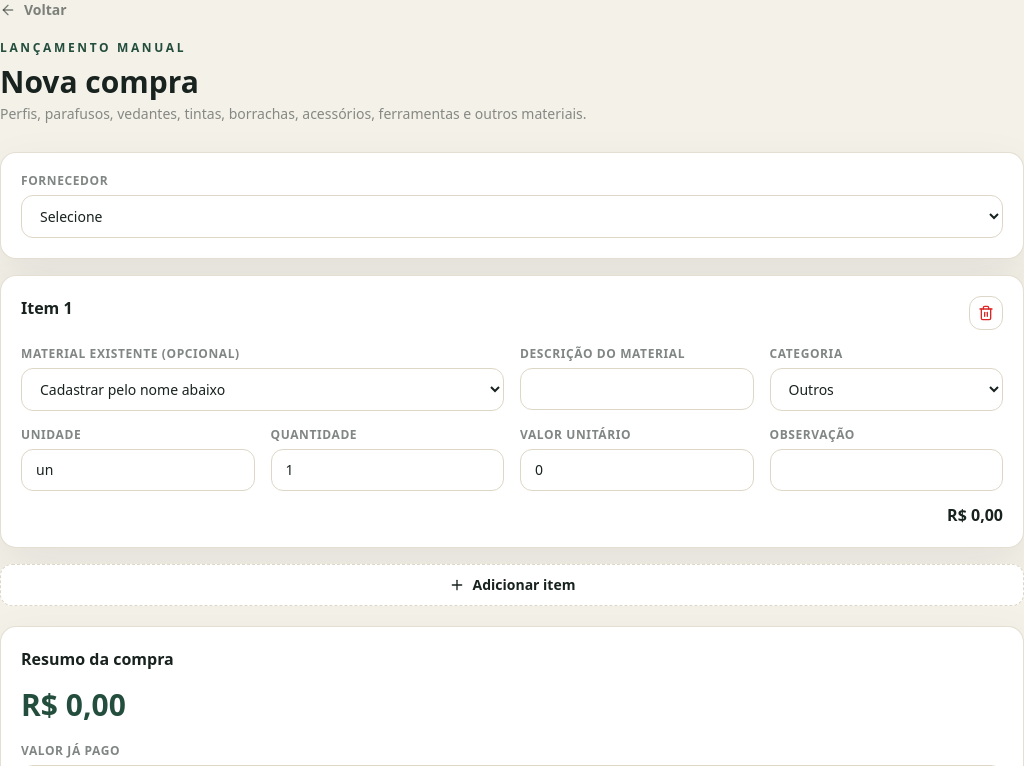
purchase cannot submit an empty row
Select "Cliente teste" in the dropdown named "Fornecedor" at point(512, 216), box [21,195,1003,238]
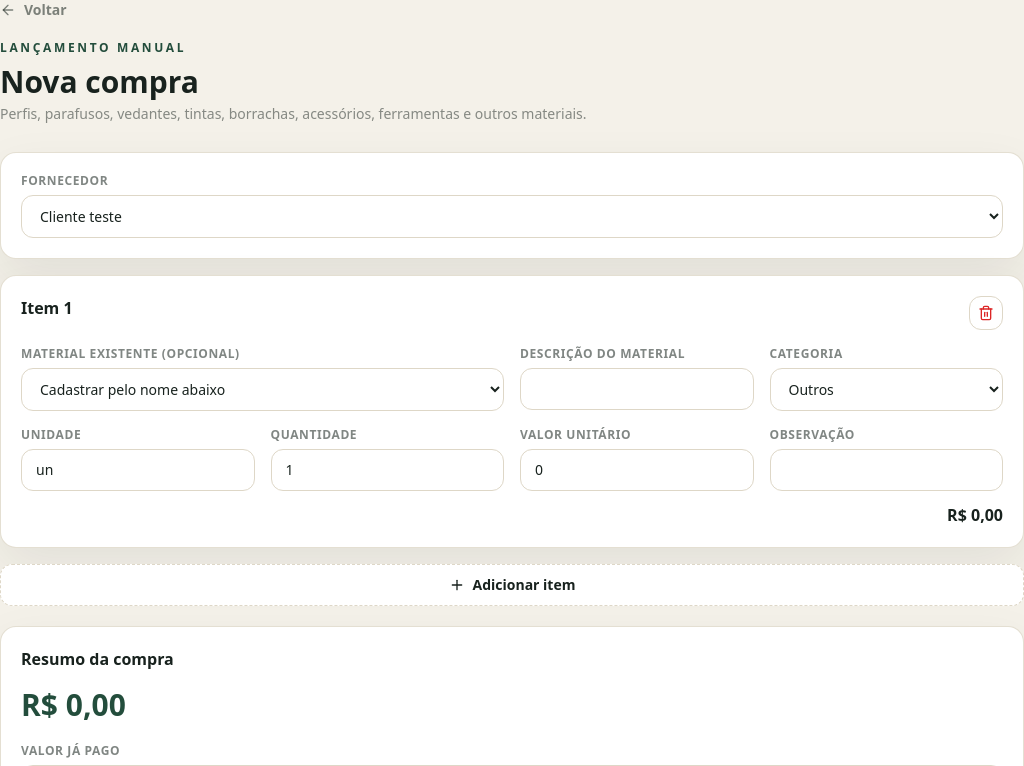
Select "Chapa" in the dropdown named "Material existente" at point(262, 390), box [21,368,504,411]
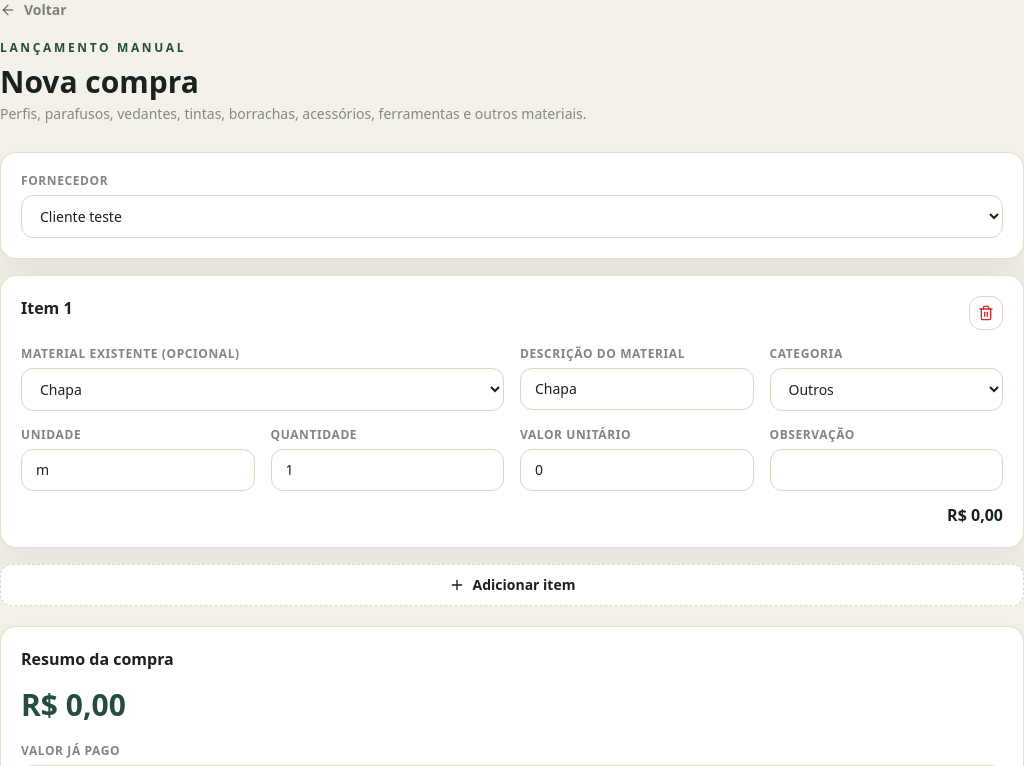
Replace the text in the number field named "Valor unitário" with "10" at point(637, 470), box [520,449,754,491]
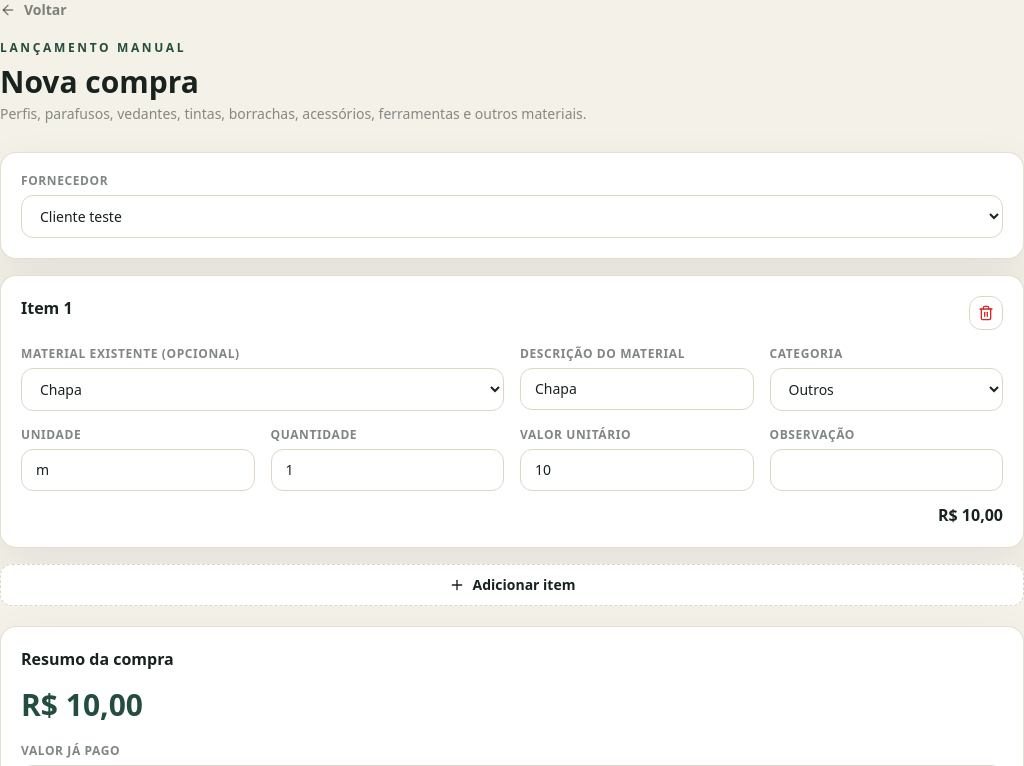
Click the button "Adicionar item".
click(512, 585)  # box [0,564,1023,606]
(page scrolled)
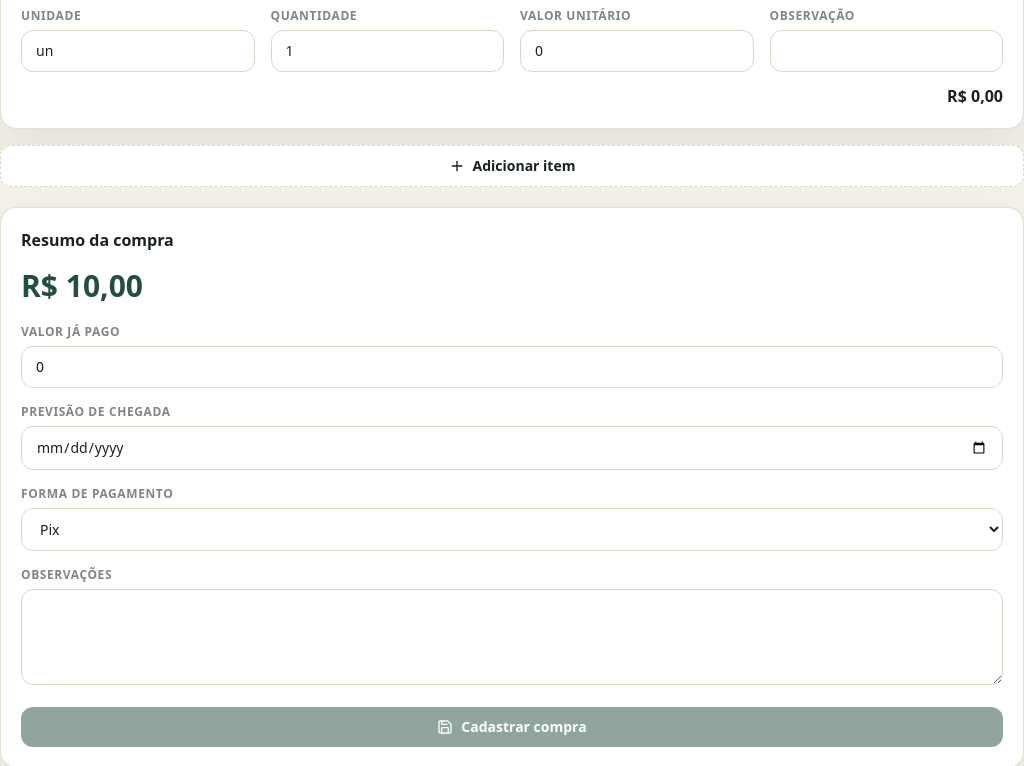
Expected: the button "Cadastrar compra" is disabled, [21,707,1003,747]
